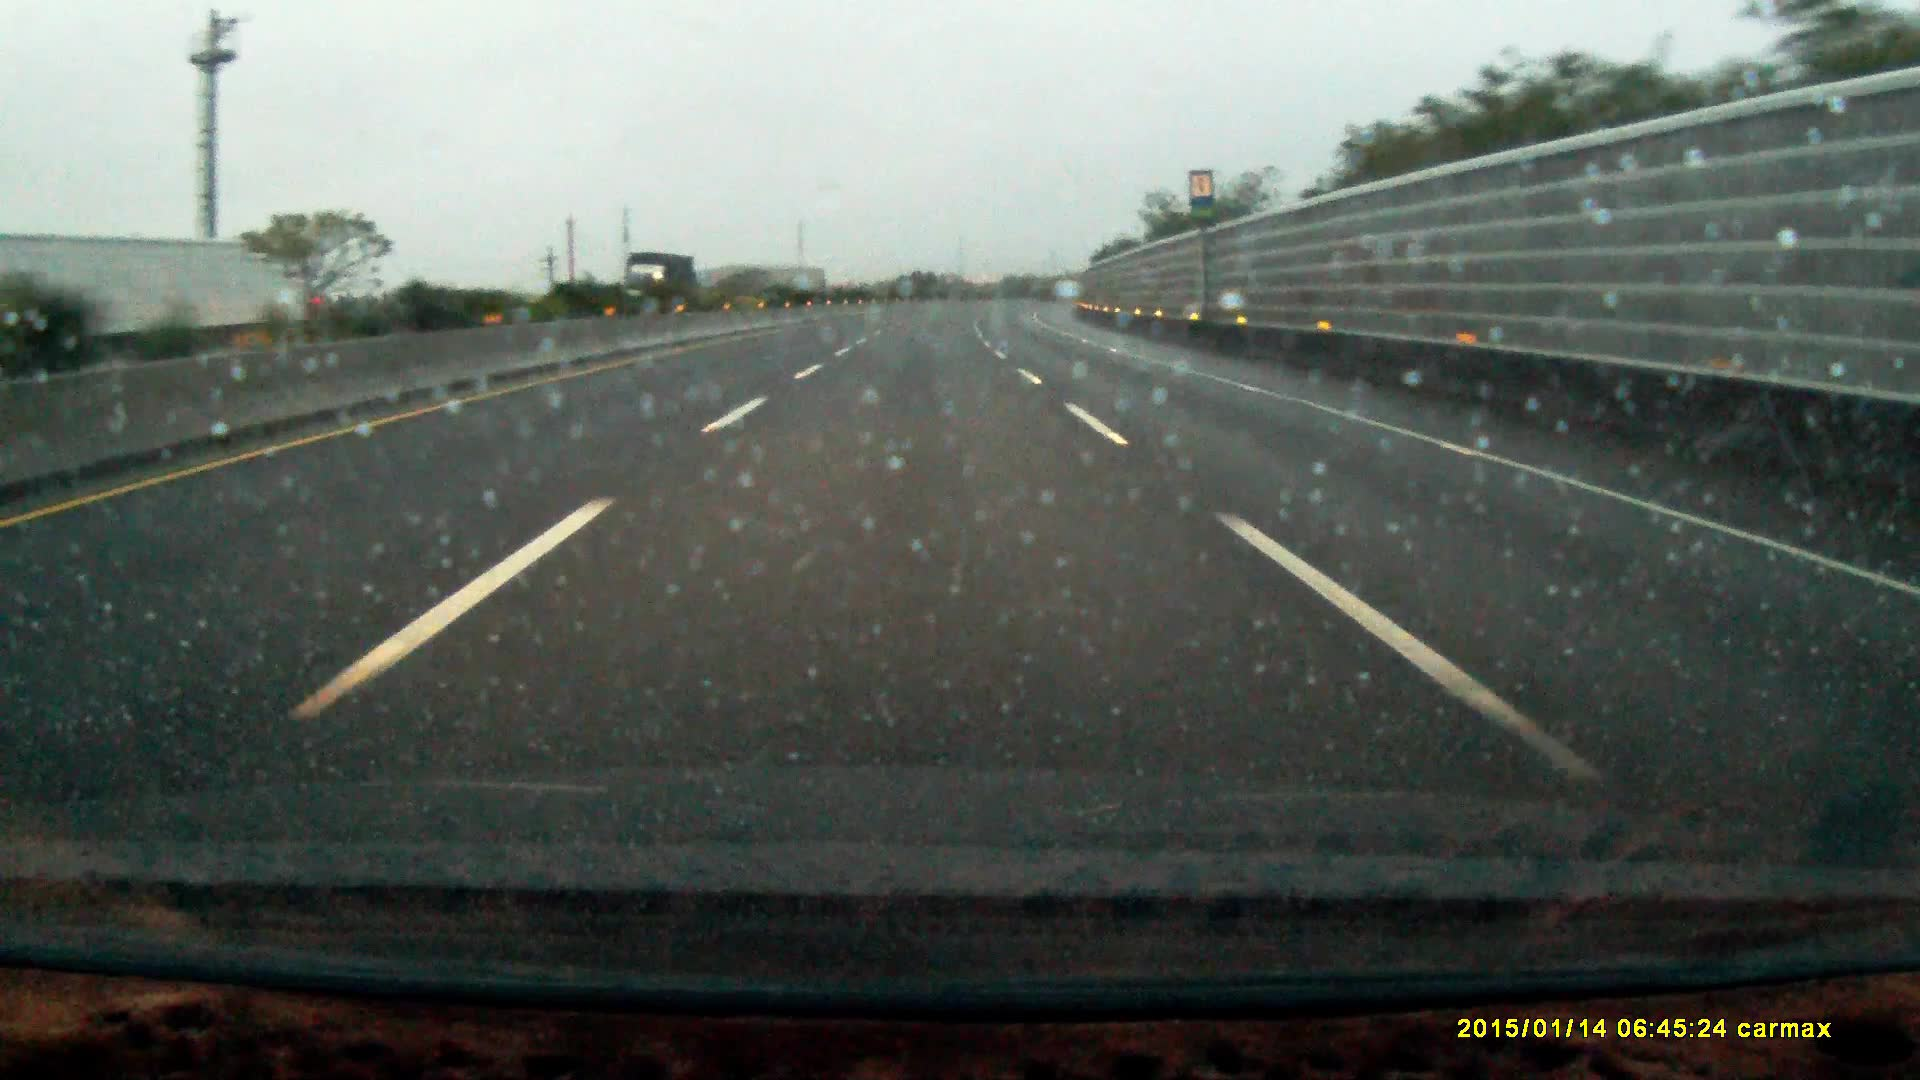vehicle: (624, 249, 702, 310)
